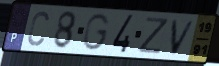4: (111, 14, 134, 55)
8: (53, 9, 78, 51)
C: (26, 10, 51, 48)
G: (81, 13, 112, 52)
V: (170, 19, 197, 57)
Z: (136, 16, 171, 56)
